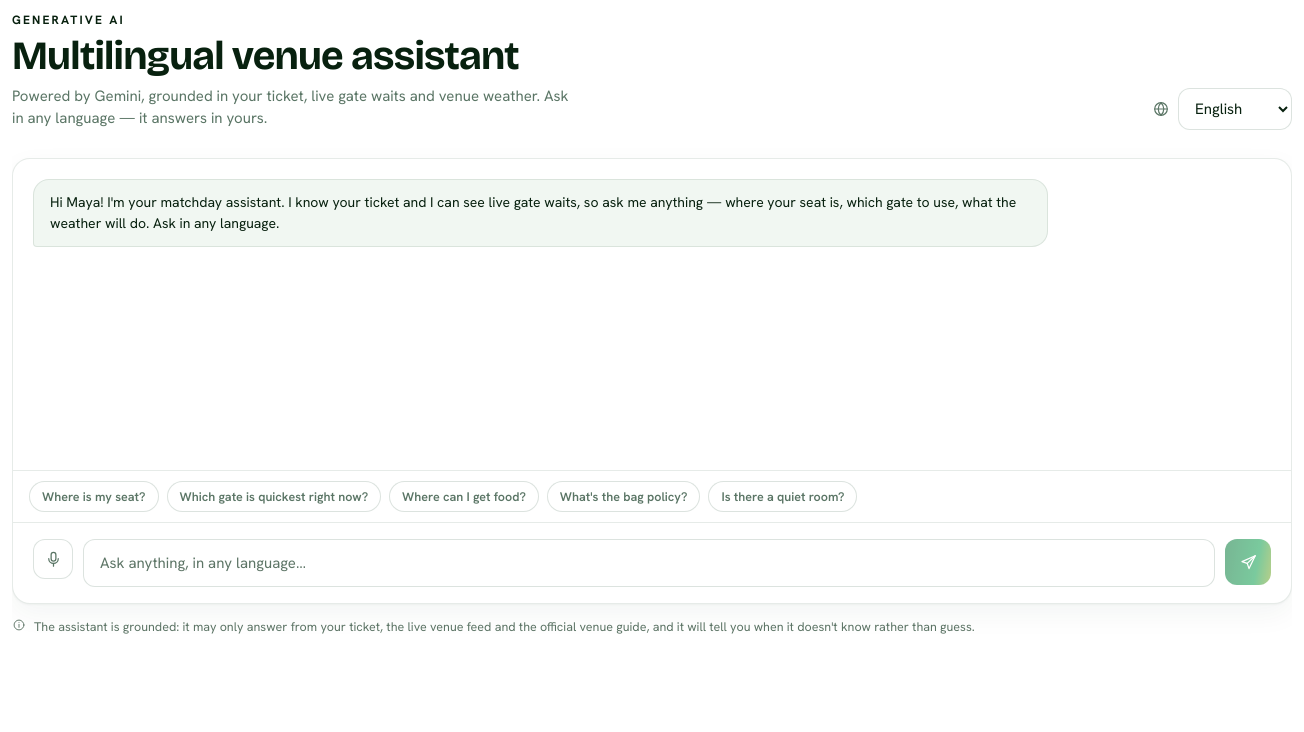
Test case: FanConcierge › shows the honest error message when the assistant fails
The image size is (1304, 732).
Step 1. Click the button "What's the bag policy?" → (624, 497), box [547, 481, 700, 512]
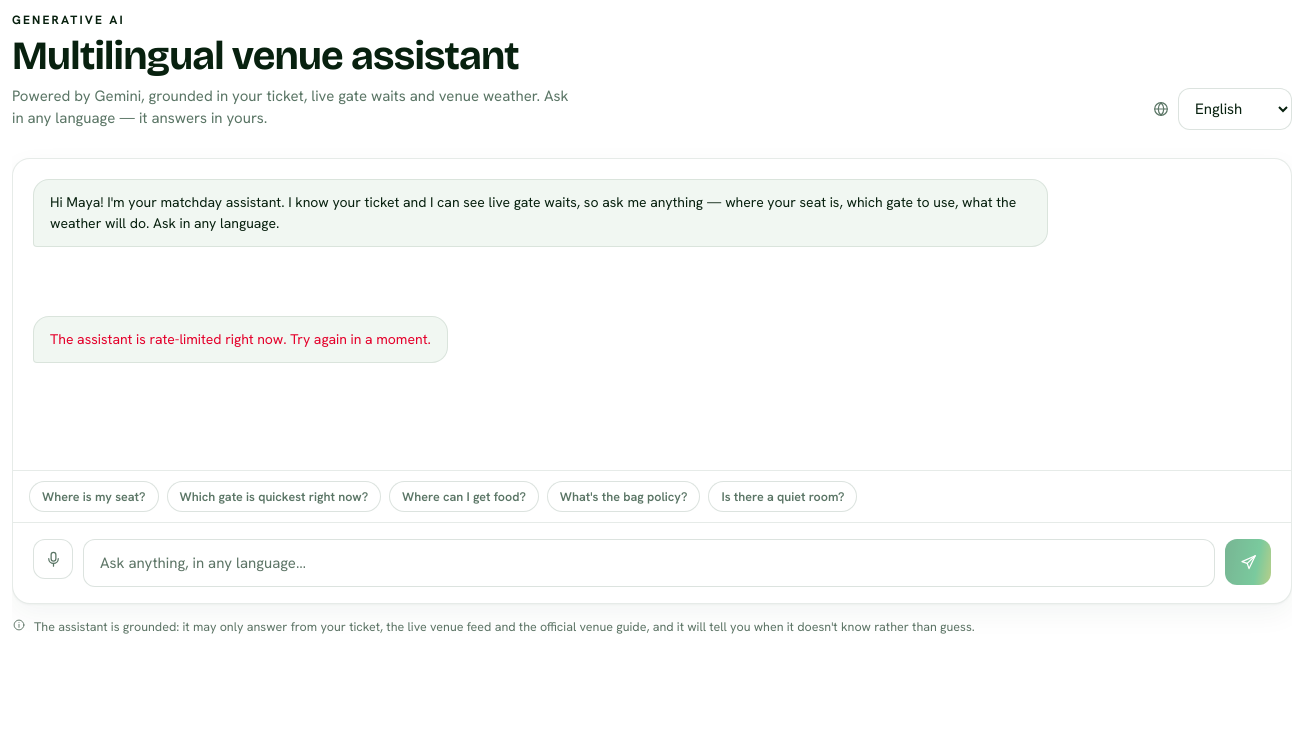
Now the text "rate-limited right now" is shown, box [50, 330, 431, 348]
